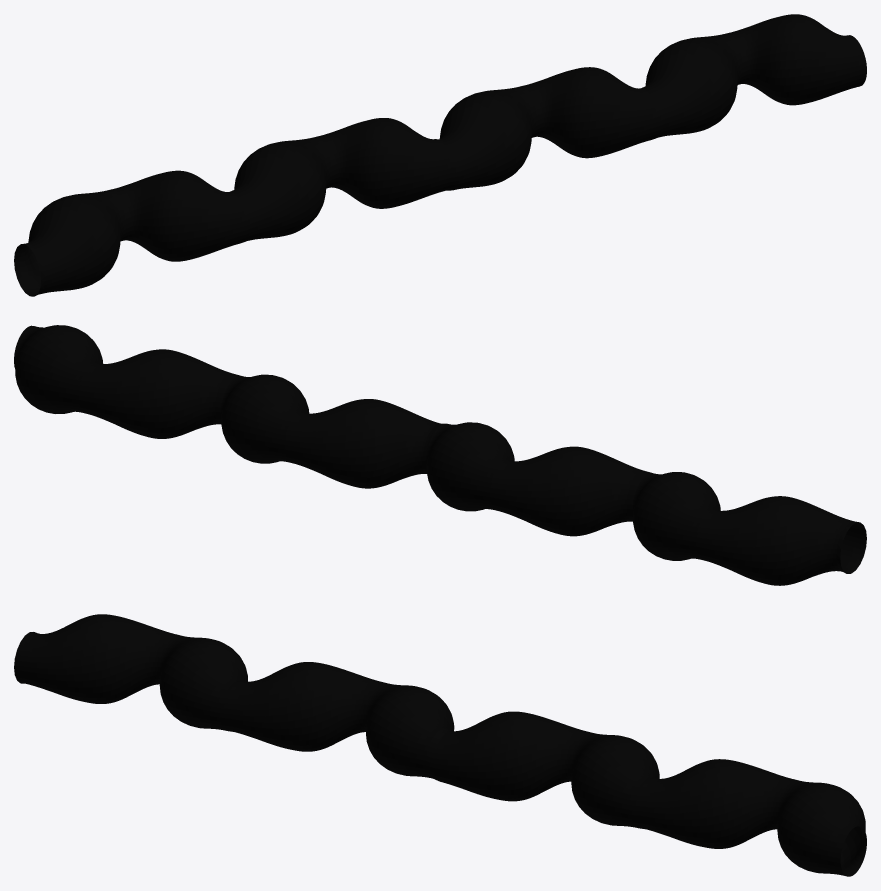
The model's file is IntestineTunnel.fbx.
3 views of the same model, one above another, from view 1: azimuth 30°, elevation 25°; view 2: azimuth 150°, elevation 25°; view 3: azimuth 330°, elevation 25° (orthographic).
Parts seen in each view (by area): view 1: intestine tunnel; view 2: intestine tunnel; view 3: intestine tunnel.
Part boxes in pixels (<box>): intestine tunnel: <box>14,14,866,296</box>; intestine tunnel: <box>14,325,866,585</box>; intestine tunnel: <box>14,614,866,876</box>.
Size of the model in its own units: 10831 by 1042 by 1359.
